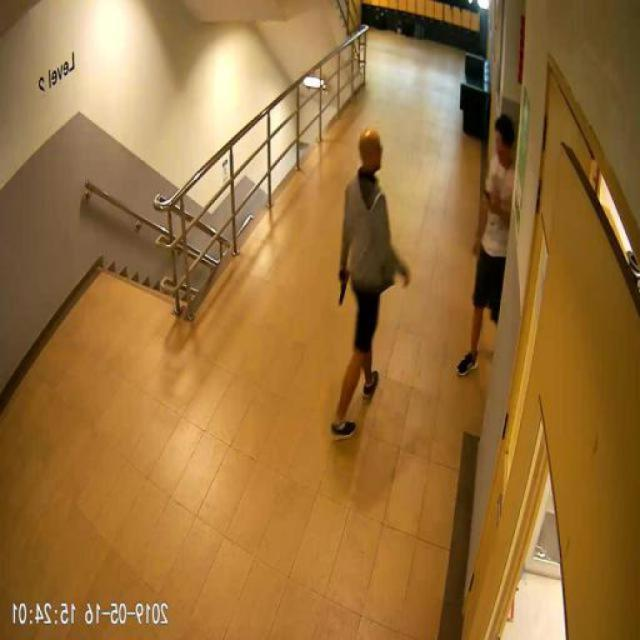pistol: (339, 268, 350, 302)
